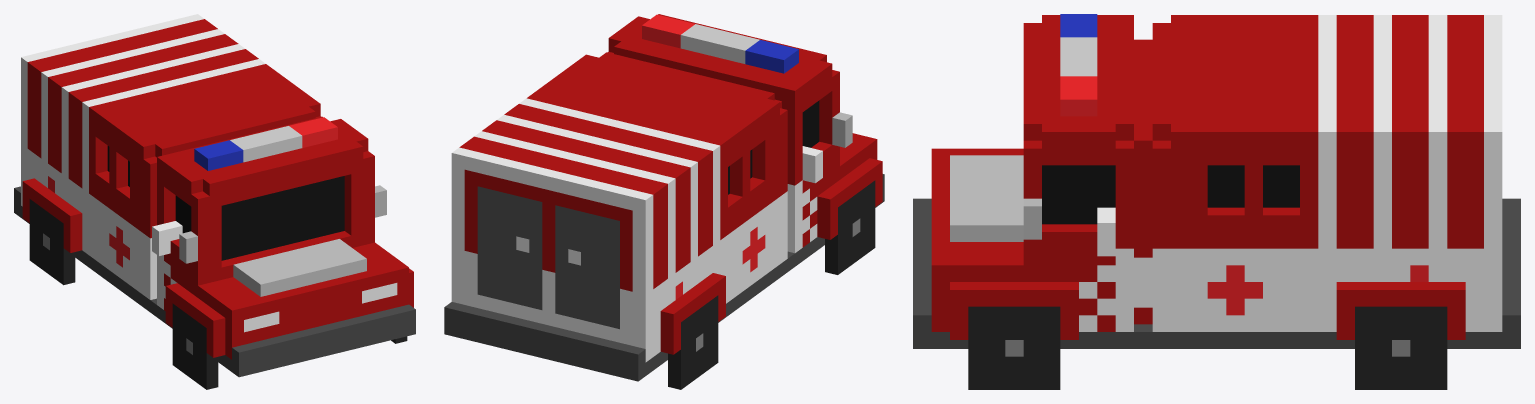
The model's file is ambulance.obj.
3 views of the same model, side by side, from view 1: azimuth 30°, elevation 25°; view 2: azimuth 150°, elevation 25°; view 3: azimuth 270°, elevation 25° (orthographic). The views are drawn at different scales.
Parts seen in each view (by area): view 1: Untitled.004; view 2: Untitled.004; view 3: Untitled.004.
Part boxes in pixels (x1,y1,x2,y2): Untitled.004: (14, 14, 415, 389); Untitled.004: (444, 14, 884, 389); Untitled.004: (913, 14, 1520, 389).
Bounding box in the file's own units: 1.7 × 1.6 × 3.3.
1 material, 1 textured.
